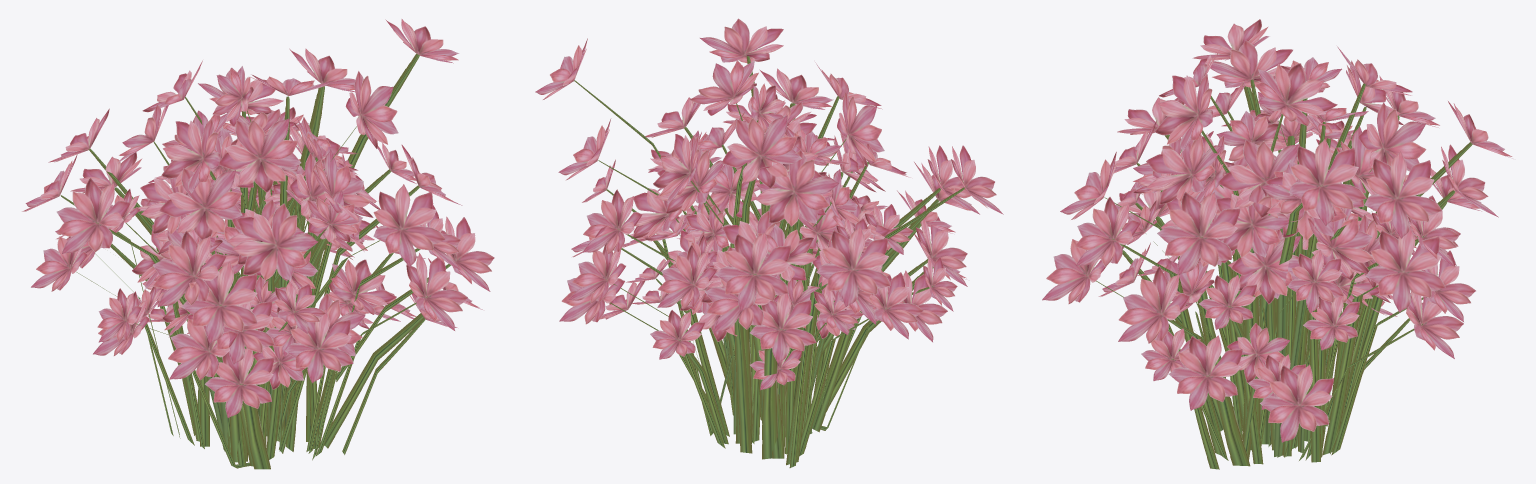
The model's file is SM_Ground_Pink_Flower_C.fbx.
3 renders of one model, left to right at view 1: azimuth 30°, elevation 25°; view 2: azimuth 150°, elevation 25°; view 3: azimuth 270°, elevation 25°, orthographic. The views are drawn at different scales.
Visible parts, largest first — view 1: SM_Ground_Pink_Flower_C_LOD0; view 2: SM_Ground_Pink_Flower_C_LOD0; view 3: SM_Ground_Pink_Flower_C_LOD0.
Boxes of the visible parts, left/top/right/bottom form: SM_Ground_Pink_Flower_C_LOD0: left=22, top=19, right=494, bottom=469; SM_Ground_Pink_Flower_C_LOD0: left=535, top=18, right=1003, bottom=467; SM_Ground_Pink_Flower_C_LOD0: left=1042, top=19, right=1512, bottom=469.
Bounding box in the file's own units: 33.38 × 30.23 × 28.01.
1 material, 1 textured.
